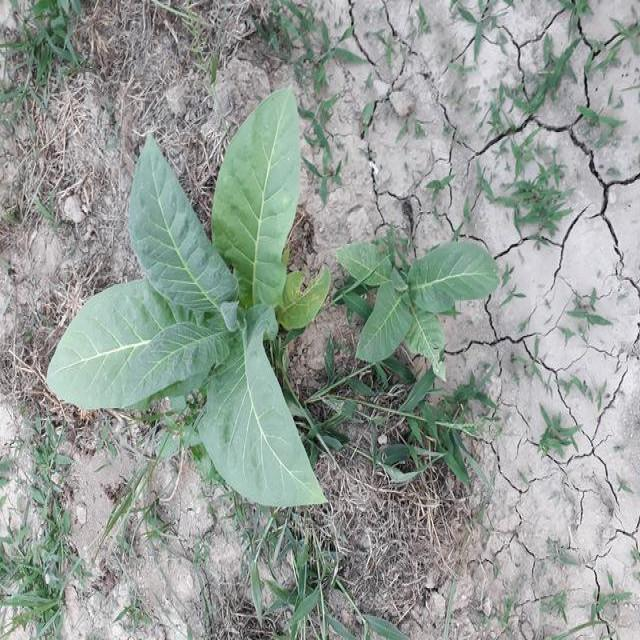crop: (42, 85, 337, 524)
